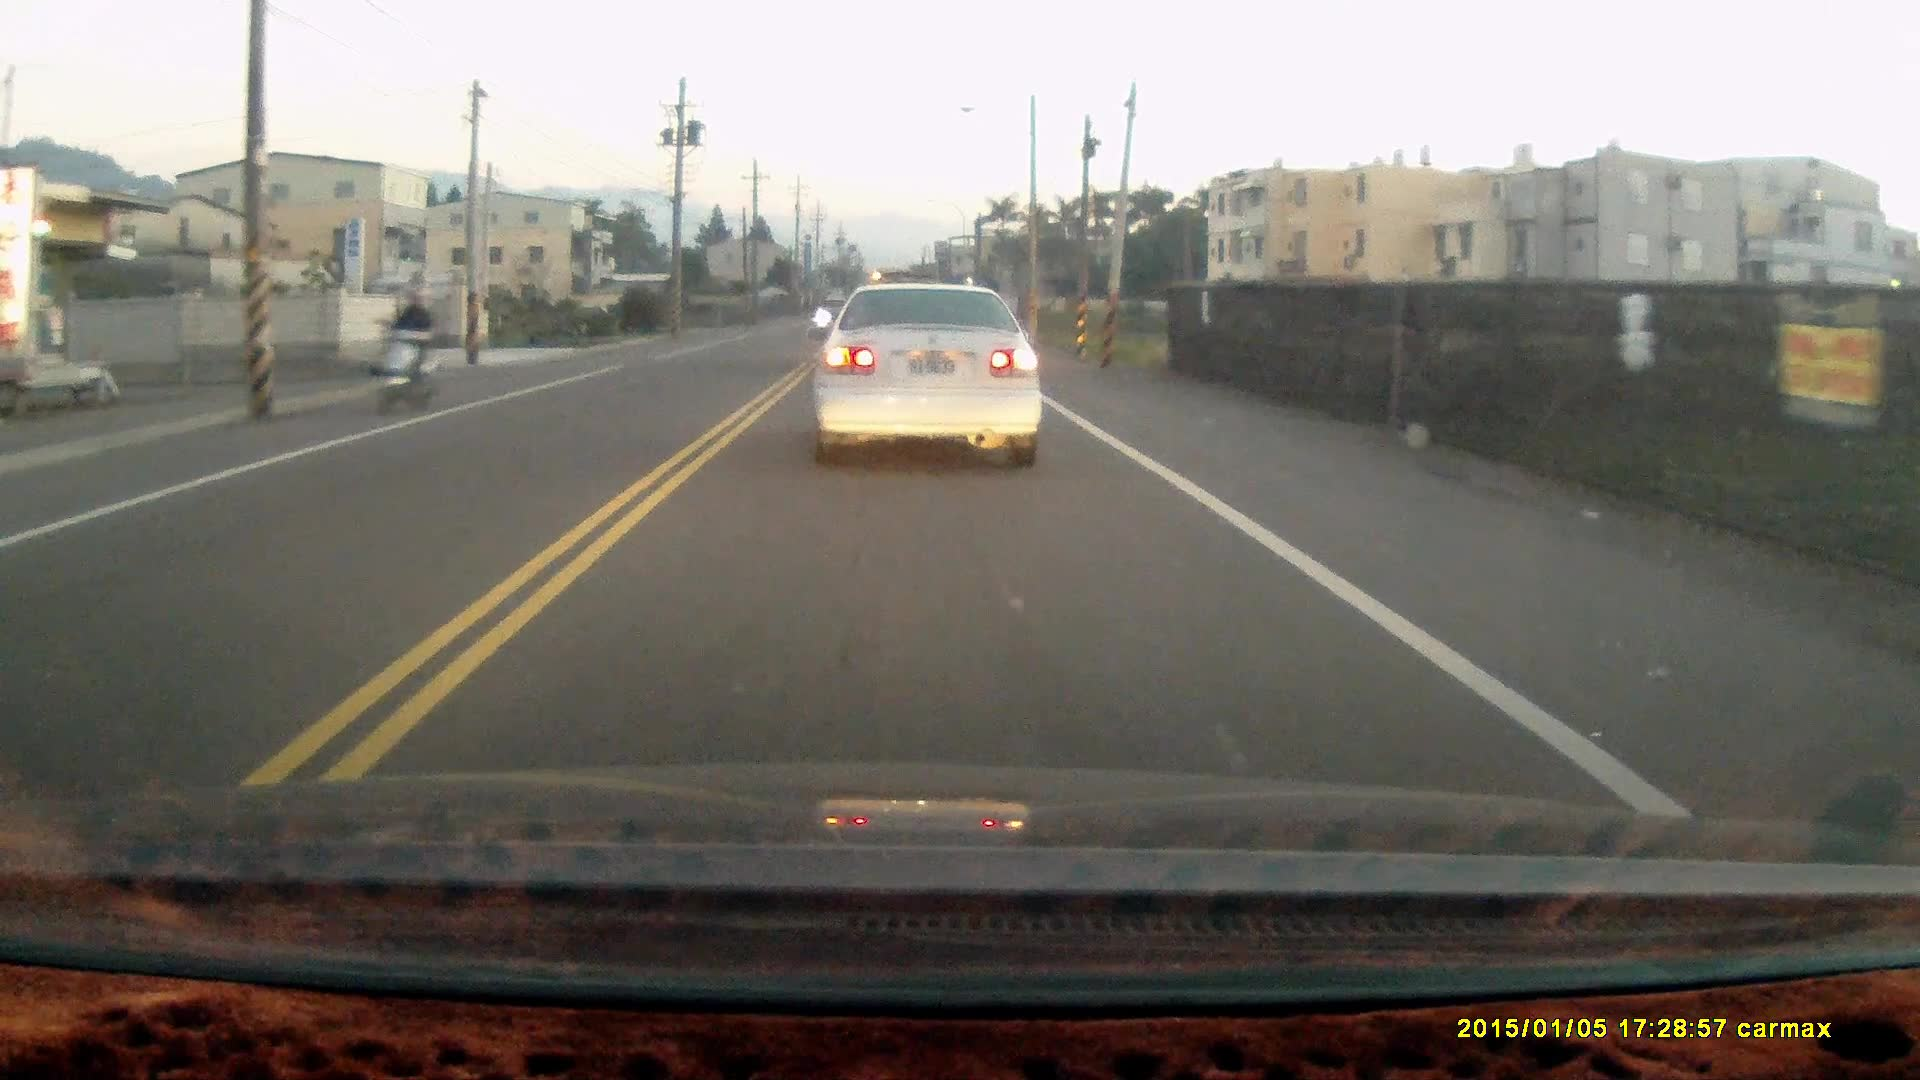rider: (368, 281, 440, 420)
vehicle: (806, 276, 1042, 467)
